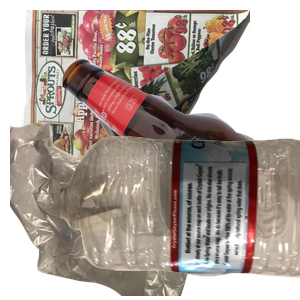glass: (60, 56, 300, 236)
paper: (18, 10, 258, 190)
plastic: (60, 134, 300, 300)
trash: (10, 120, 231, 300)
